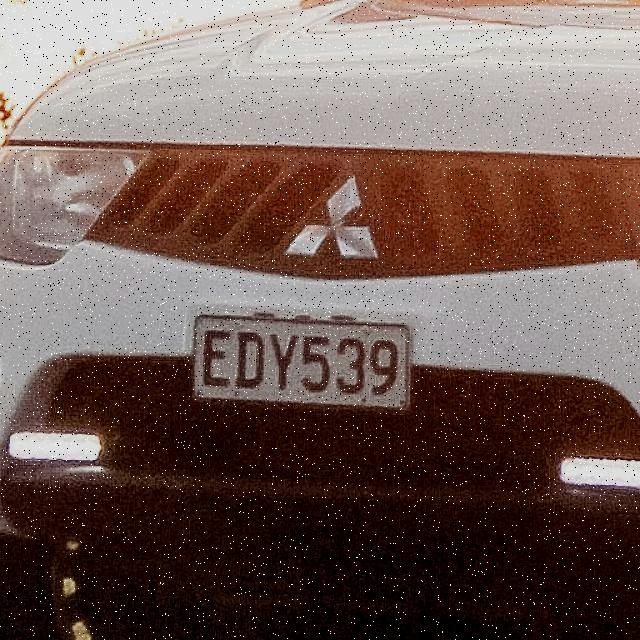licenseplate: (184, 303, 430, 428)
